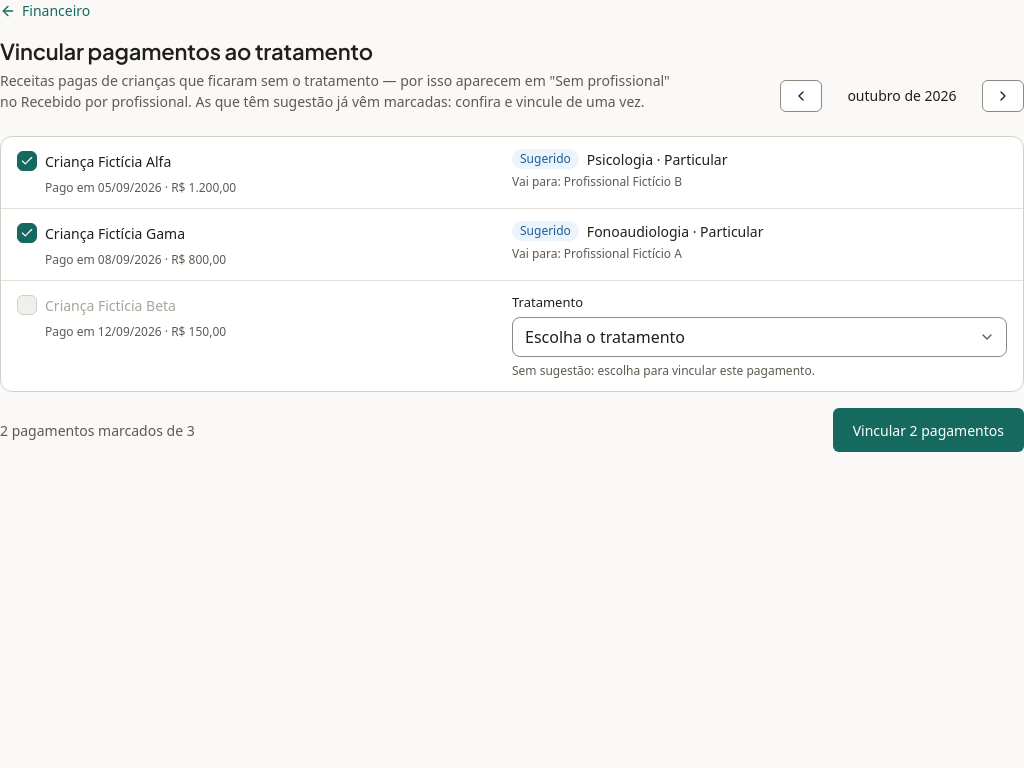
Test: Vincular pagamentos — confirmar e enviar › deve começar o mês seguinte sem a recusa do mês anterior
Expected: the checkbox named "Criança Fictícia Alfa" next to "Criança Fictícia Alfa" is shown, [17,151,37,171]
What coordinates should you click on to do the following:
click the button named "Mês anterior"
I would click on:
 (801, 96)
Its box is [780,80,822,112].
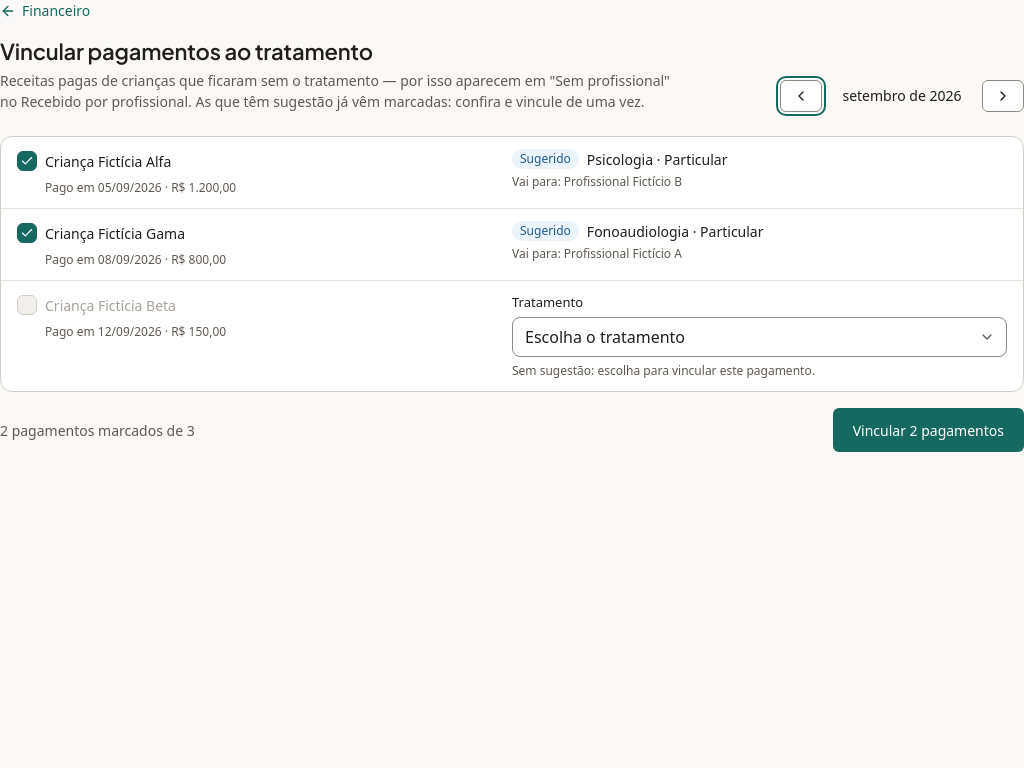
Expected: the checkbox named "Criança Fictícia Alfa" next to "Criança Fictícia Alfa" is shown, [17,151,37,171]
Expected: the text "setembro de 2026" is shown, [842,86,962,105]
What coordinates should you click on to do the following:
click the button "Vincular 2 pagamentos"
I would click on:
 (928, 430)
Its box is [833,408,1023,452].
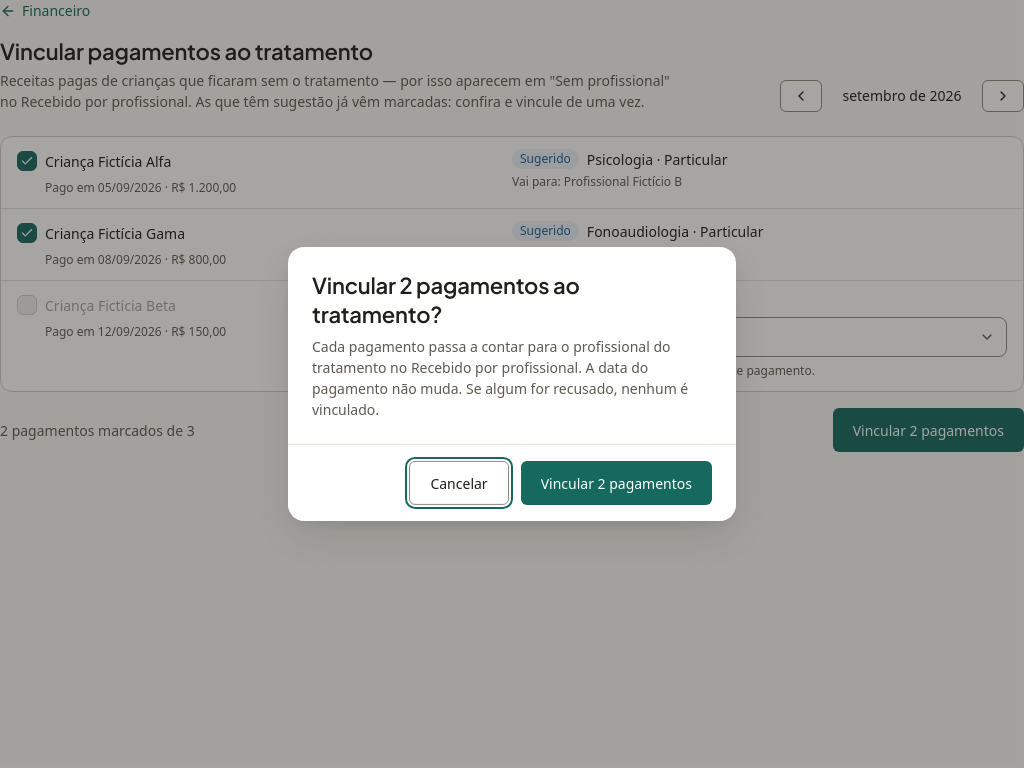
What coordinates should you click on to do the following:
click the button "Vincular 2 pagamentos"
I would click on:
 (616, 483)
Its box is [521,461,712,505].
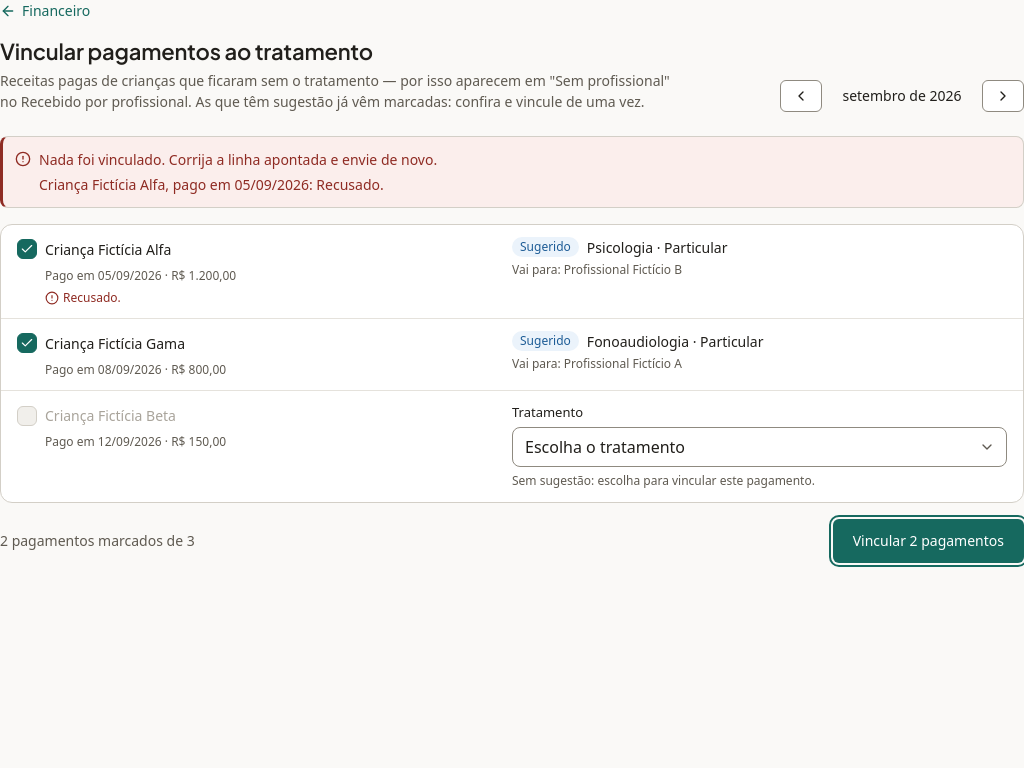
Expected: the text "Nada foi vinculado. Corrija a linha apontada e envie de novo." is shown, [39,149,437,170]
What coordinates should you click on to do the following:
click the button named "Próximo mês"
I would click on:
 (1003, 96)
Its box is [982,80,1023,112].
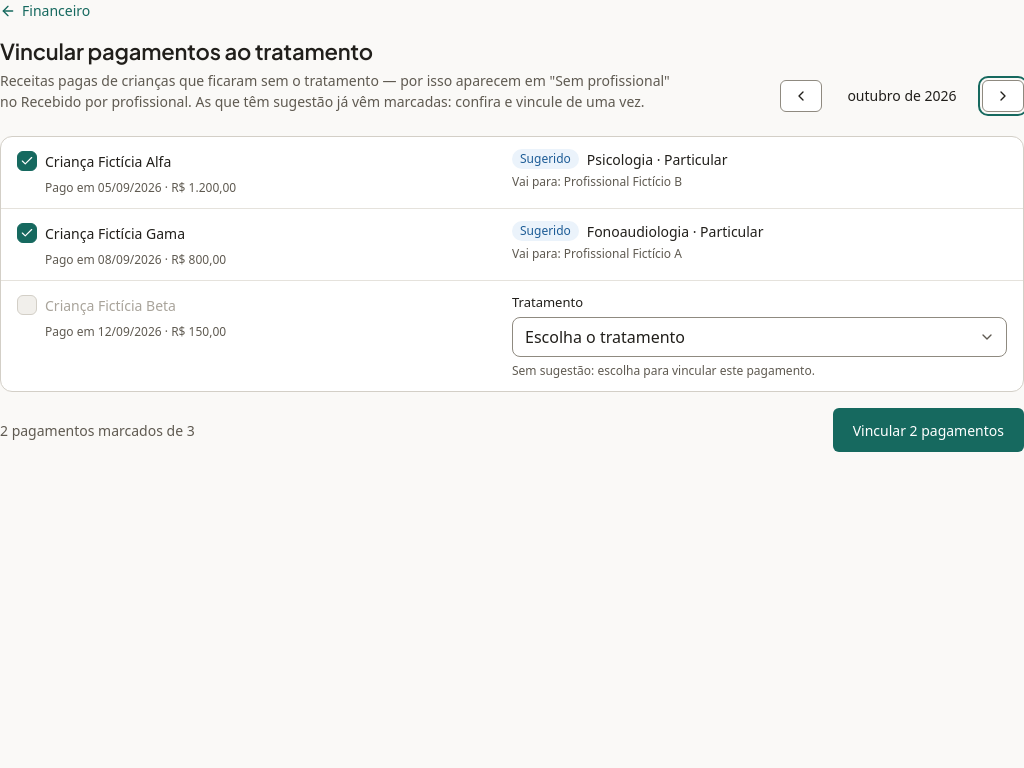
Expected: the text "outubro de 2026" is shown, [847,86,957,105]
Expected: the checkbox named "Criança Fictícia Alfa" next to "Criança Fictícia Alfa" is shown, [17,151,37,171]
Expected: the text "Nada foi vinculado. Corrija a linha apontada e envie de novo." is gone
